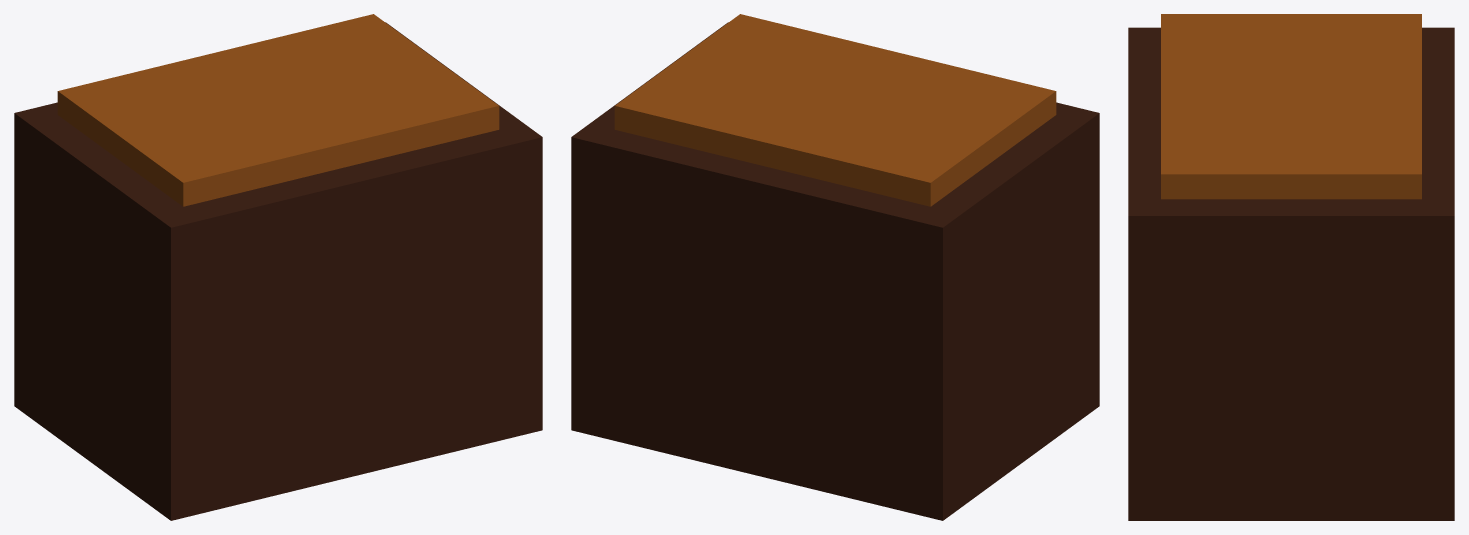
File: tool_cabinet.obj
3 renders of one model, left to right at view 1: azimuth 30°, elevation 25°; view 2: azimuth 150°, elevation 25°; view 3: azimuth 270°, elevation 25°, orthographic. The views are drawn at different scales.
Visible parts, largest first — view 1: dark_wood, brass; view 2: dark_wood, brass; view 3: dark_wood, brass.
Part boxes in pixels (x1=…): dark_wood: x1=14, y1=22, x2=542, y2=520; brass: x1=57, y1=14, x2=499, y2=206; dark_wood: x1=571, y1=22, x2=1099, y2=520; brass: x1=614, y1=14, x2=1056, y2=206; dark_wood: x1=1128, y1=27, x2=1454, y2=520; brass: x1=1161, y1=14, x2=1421, y2=199.
Bounding box in the file's own units: 1.3 × 1.07 × 0.95.
